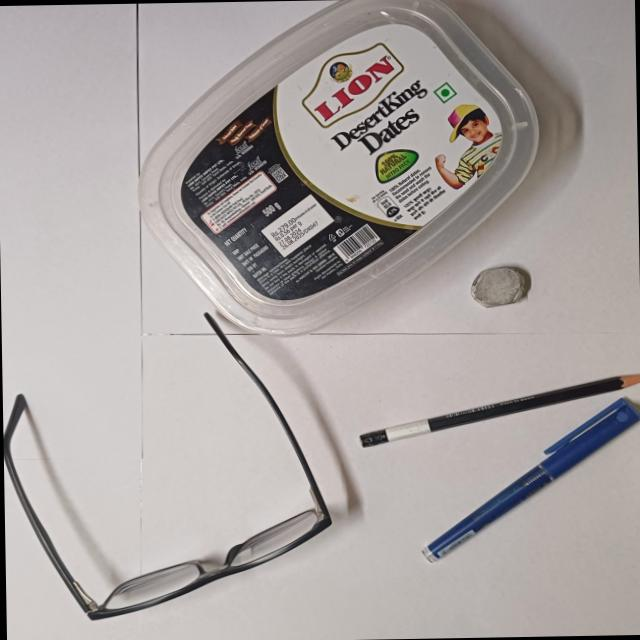Eraser-NonBio: (467, 264, 534, 311)
Pen-NonBio: (410, 395, 640, 566)
Pencil-Bio: (350, 368, 640, 448)
Plastic-NonBio: (133, 0, 542, 335)
Spectacles-NonBio: (0, 309, 335, 626)
